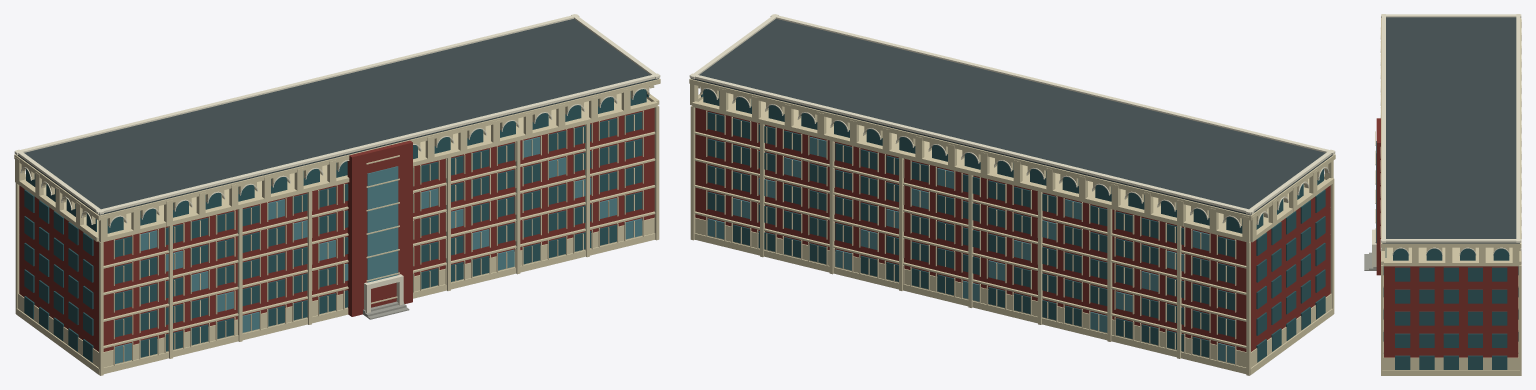
3 renders of one model, left to right at view 1: azimuth 30°, elevation 25°; view 2: azimuth 150°, elevation 25°; view 3: azimuth 270°, elevation 25°, orthographic. The views are drawn at different scales.
Parts seen in each view (by area): view 1: MainBlock_Roof, MainBlock_Structure, MainBlock_WindowGlass, MainBlock_WindowFrames, MainBlock_CentralBrickPier, MainBlock_RoofCoping, MainBlock_FloorBands, MainBlock_Pilasters, MainBlock_SideWindows, MainBlock_AtticPiers, MainBlock_Plinth, MainBlock_AtticRecess (+7 smaller); view 2: MainBlock_Roof, MainBlock_Structure, MainBlock_WindowGlass, MainBlock_WindowFrames, MainBlock_FloorBands, MainBlock_Pilasters, MainBlock_RoofCoping, MainBlock_AtticPiers, MainBlock_SideWindows, MainBlock_Plinth, MainBlock_AtticRecess, MainBlock_AtticSills (+5 smaller); view 3: MainBlock_Roof, MainBlock_Structure, MainBlock_SideWindows, MainBlock_RoofCoping, MainBlock_Cornice, MainBlock_GroundStonework, MainBlock_AtticFloor, MainBlock_Plinth, MainBlock_AtticPiers, MainBlock_CentralBrickPier, MainBlock_Pilasters, MainBlock_AtticSills (+4 smaller).
Boxes of the visible parts, box(x1,y1,x2,y2) form: MainBlock_Roof: box(17, 19, 658, 215); MainBlock_Structure: box(19, 107, 654, 351); MainBlock_WindowGlass: box(115, 112, 642, 363); MainBlock_WindowFrames: box(113, 110, 643, 365); MainBlock_CentralBrickPier: box(347, 140, 412, 316); MainBlock_RoofCoping: box(14, 14, 660, 214); MainBlock_FloorBands: box(19, 131, 655, 348); MainBlock_Pilasters: box(15, 105, 659, 375); MainBlock_SideWindows: box(24, 189, 93, 362); MainBlock_AtticPiers: box(15, 88, 630, 242); MainBlock_Plinth: box(16, 233, 655, 375); MainBlock_AtticRecess: box(26, 89, 648, 233); MainBlock_Roof: box(691, 19, 1332, 215); MainBlock_Structure: box(695, 107, 1330, 351); MainBlock_WindowGlass: box(707, 112, 1234, 363); MainBlock_WindowFrames: box(706, 110, 1236, 365); MainBlock_FloorBands: box(694, 131, 1330, 348); MainBlock_Pilasters: box(690, 106, 1334, 375); MainBlock_RoofCoping: box(689, 14, 1335, 214); MainBlock_AtticPiers: box(690, 84, 1333, 242); MainBlock_SideWindows: box(1256, 189, 1325, 362); MainBlock_Plinth: box(694, 233, 1333, 375); MainBlock_AtticRecess: box(701, 89, 1323, 233); MainBlock_AtticSills: box(692, 94, 1334, 240); MainBlock_Roof: box(1382, 17, 1519, 243); MainBlock_Structure: box(1384, 266, 1518, 357); MainBlock_SideWindows: box(1395, 267, 1507, 369); MainBlock_RoofCoping: box(1381, 14, 1521, 242); MainBlock_Cornice: box(1381, 18, 1521, 247); MainBlock_GroundStonework: box(1383, 354, 1518, 370); MainBlock_AtticFloor: box(1383, 247, 1512, 265); MainBlock_Plinth: box(1382, 370, 1519, 375); MainBlock_AtticPiers: box(1412, 19, 1521, 266); MainBlock_CentralBrickPier: box(1376, 118, 1380, 275); MainBlock_Pilasters: box(1381, 254, 1521, 375); MainBlock_AtticSills: box(1381, 251, 1521, 266).
Bounding box in the file's own units: 86.25 × 23.94 × 25.18.
